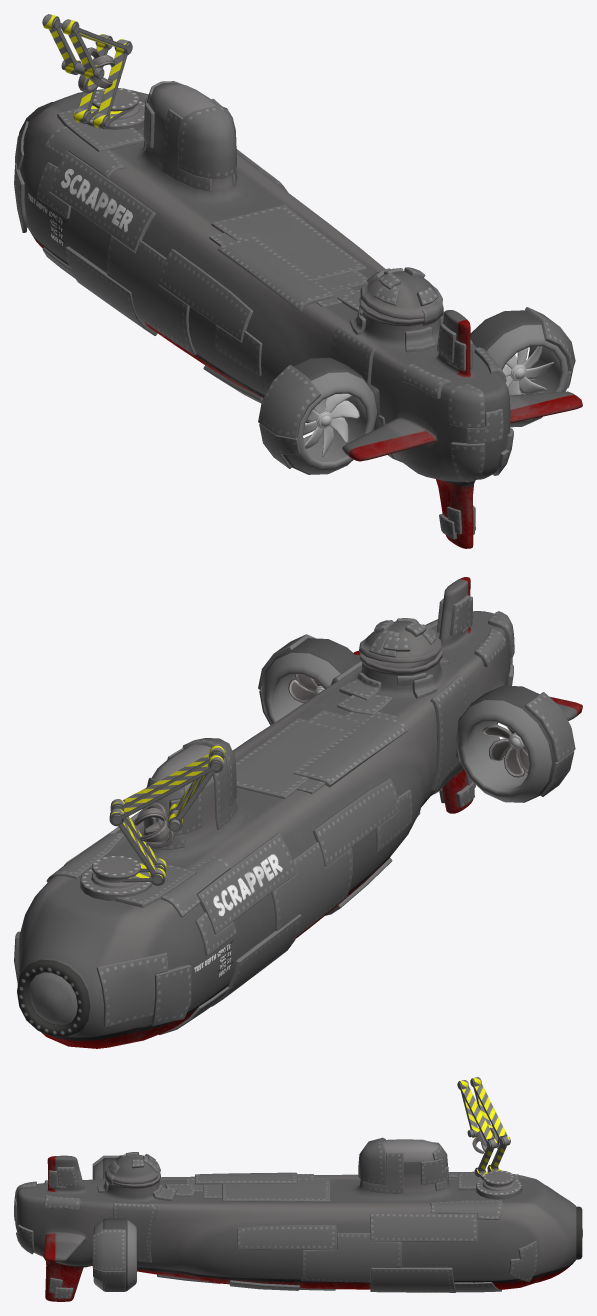
Rendered from Submarine.glb.
The picture shows the model from 3 angles, top to bottom: view 1: azimuth 30°, elevation 25°; view 2: azimuth 150°, elevation 25°; view 3: azimuth 270°, elevation 25°; orthographic projection. The views are drawn at different scales.
Parts seen in each view (by area): view 1: Metal Patching, Sub Body_applied, Prop Housing, Cylinder.012, Hatch Lid, Prop.001, Prop.002; view 2: Metal Patching, Sub Body_applied, Prop Housing, Cylinder.012, Hatch Lid, Prop.001, Prop.002; view 3: Sub Body_applied, Metal Patching, Cylinder.012, Prop Housing, Hatch Lid.
Part boxes in pixels (bbox=[...]): Metal Patching: bbox=[14, 81, 575, 539]; Sub Body_applied: bbox=[19, 82, 582, 548]; Prop Housing: bbox=[282, 310, 568, 474]; Cylinder.012: bbox=[42, 14, 144, 130]; Hatch Lid: bbox=[360, 271, 442, 319]; Prop.001: bbox=[303, 393, 360, 457]; Prop.002: bbox=[502, 346, 553, 395]; Metal Patching: bbox=[14, 595, 575, 1034]; Sub Body_applied: bbox=[17, 577, 582, 1048]; Prop Housing: bbox=[261, 638, 555, 802]; Cylinder.012: bbox=[80, 745, 224, 900]; Hatch Lid: bbox=[359, 620, 441, 663]; Prop.001: bbox=[482, 724, 529, 777]; Prop.002: bbox=[288, 674, 320, 703]; Sub Body_applied: bbox=[16, 1139, 582, 1301]; Metal Patching: bbox=[14, 1137, 538, 1298]; Cylinder.012: bbox=[457, 1077, 522, 1199]; Prop Housing: bbox=[93, 1158, 136, 1291]; Hatch Lid: bbox=[107, 1154, 160, 1184].
Bounding box in the file's own units: 9.27 × 9.07 × 23.79.
Materials: 8 (8 with a texture image).
